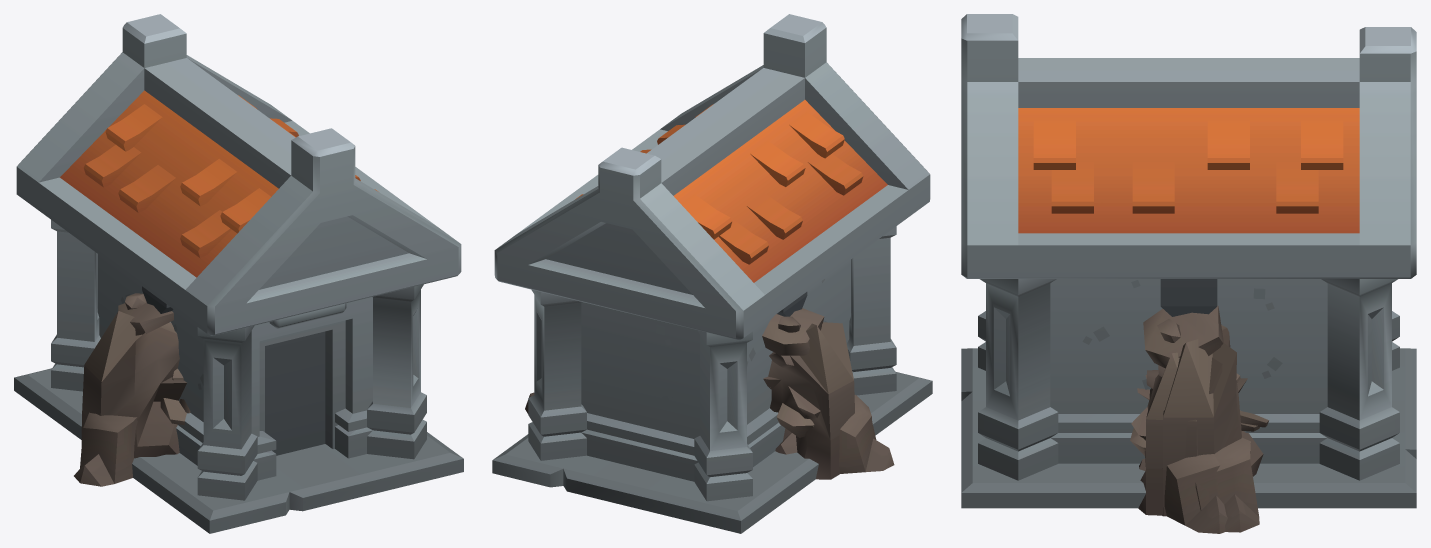
Rendered from props.glb.
3 renders of one model, left to right at view 1: azimuth 30°, elevation 25°; view 2: azimuth 150°, elevation 25°; view 3: azimuth 270°, elevation 25°, orthographic. The views are drawn at different scales.
Parts seen in each view (by area): view 1: crypt, rubble_large; view 2: crypt, rubble_large; view 3: crypt, rubble_half, rubble_large, wall_broken, wall_half.
Part boxes in pixels (<box>): crypt: <box>14,14,463,533</box>; rubble_large: <box>74,293,190,486</box>; crypt: <box>492,14,932,533</box>; rubble_large: <box>762,308,894,479</box>; crypt: <box>961,14,1416,508</box>; rubble_half: <box>1143,305,1268,532</box>; rubble_large: <box>1130,352,1259,533</box>; wall_broken: <box>1168,279,1217,316</box>; wall_half: <box>1160,279,1188,312</box>.
Bounding box in the file's own units: 8.13 × 8.85 × 8.
Materials: 4 (4 with a texture image).
